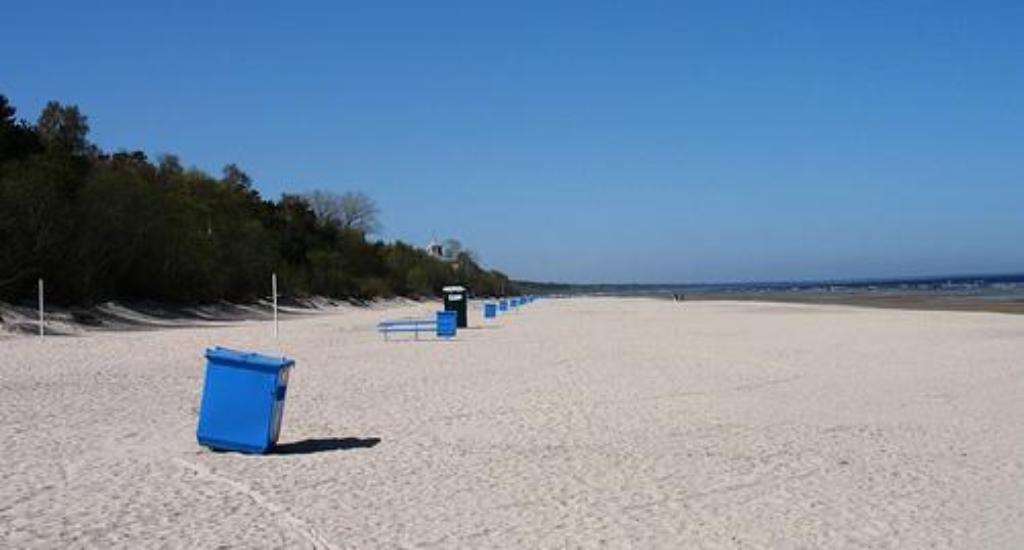dustbin: (199, 342, 294, 464)
